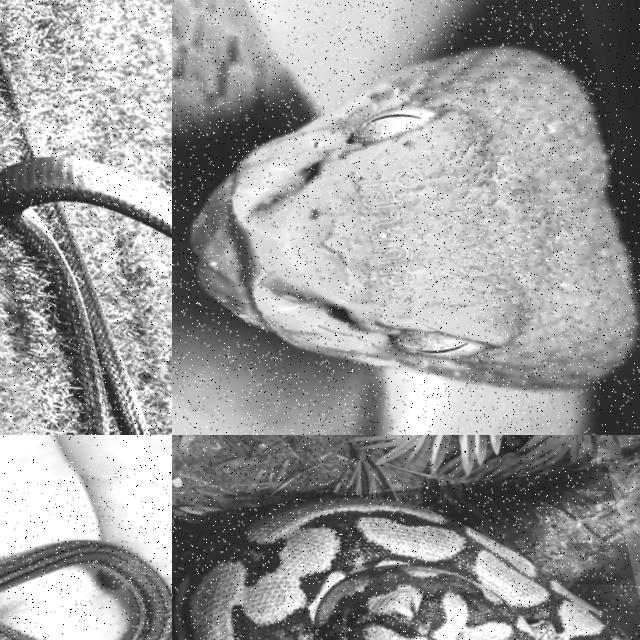Calliophis intestinalis: (0, 540, 171, 639)
Malayopython reticulatus: (174, 497, 628, 639)
Ophiophagus hannah: (0, 52, 171, 434)
Trimeresurus macrops: (172, 0, 634, 434)
